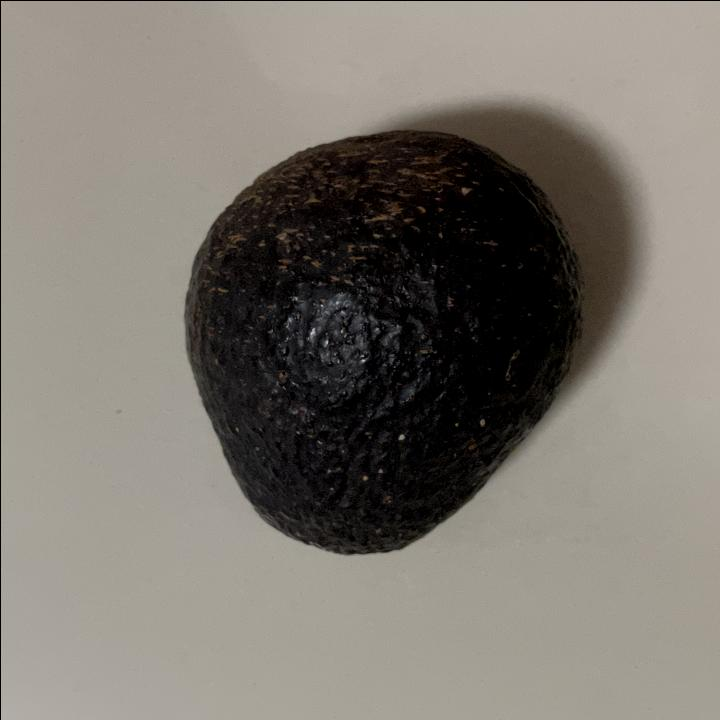Level3: (168, 122, 594, 565)
